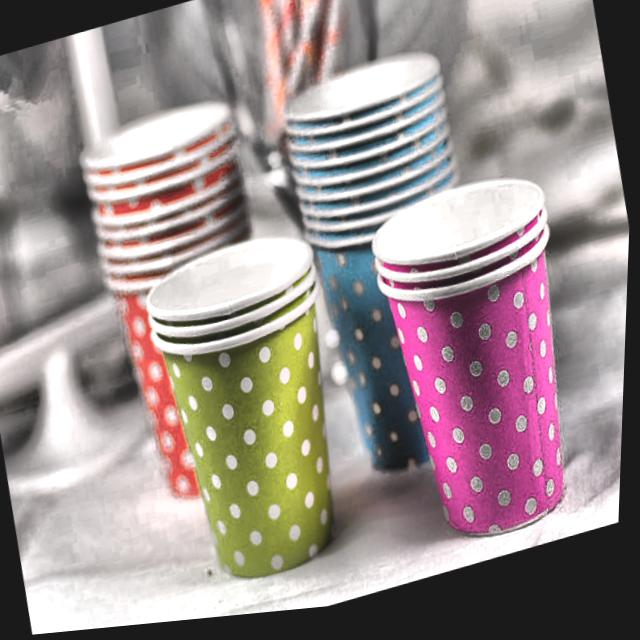Cup: (268, 38, 524, 514), (56, 82, 312, 530), (357, 162, 611, 569), (127, 208, 381, 614)
